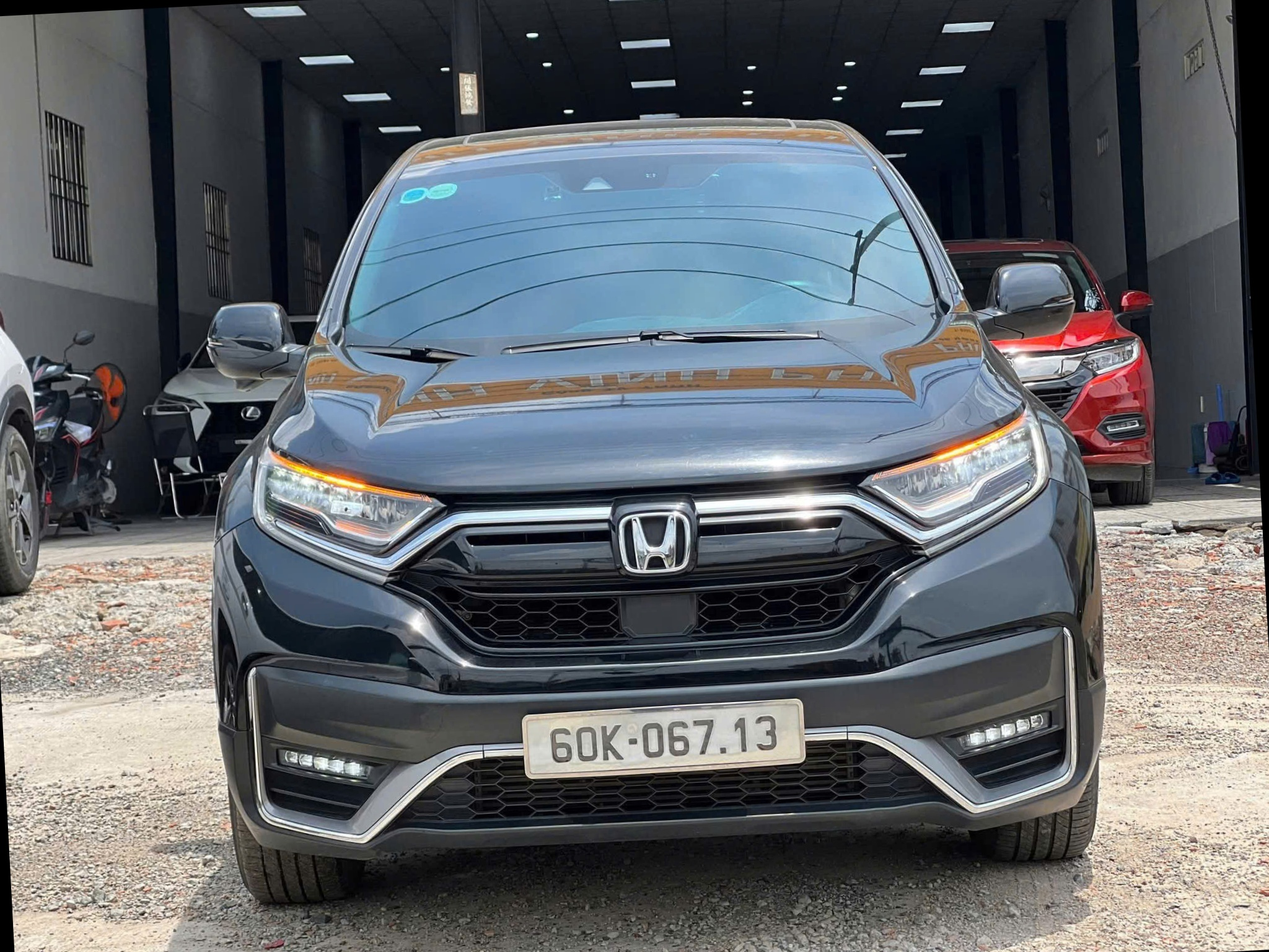Bien-so: (518, 688, 809, 753)
